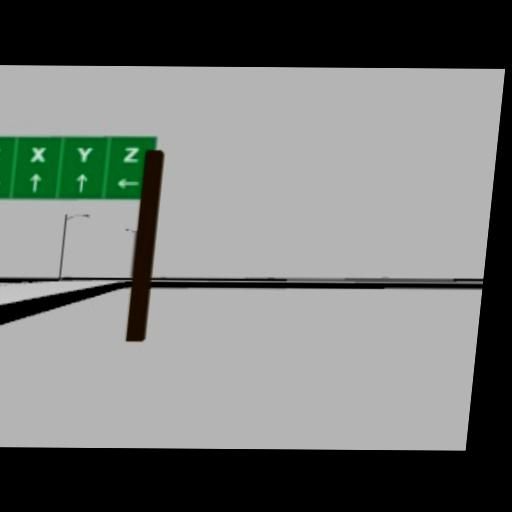C: (0, 145, 3, 163)
Left: (115, 177, 139, 189)
Right: (0, 177, 1, 188)
Straight: (27, 173, 41, 192), (73, 173, 87, 192)
X: (28, 146, 46, 162)
Y: (74, 147, 94, 163)
Z: (121, 147, 139, 163)
